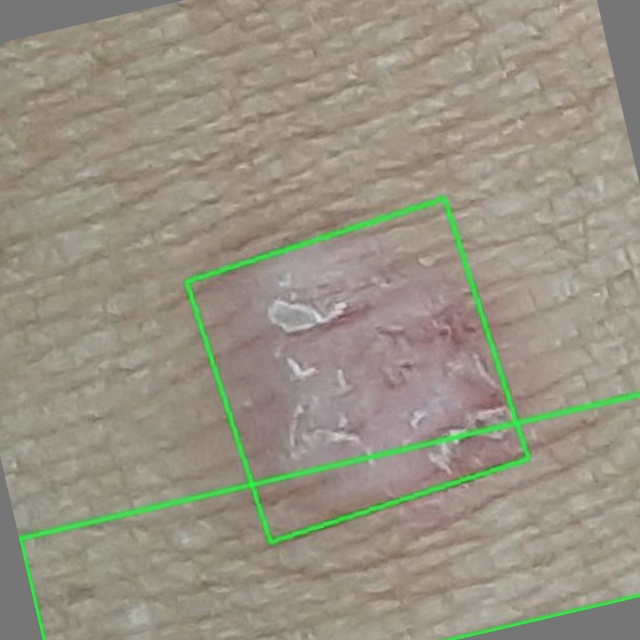Contact Dermatitis: (19, 394, 639, 639), (187, 199, 528, 541)
